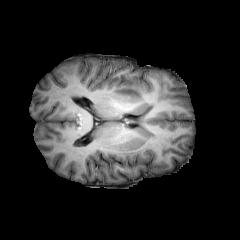glioma: (112, 72, 155, 161)
